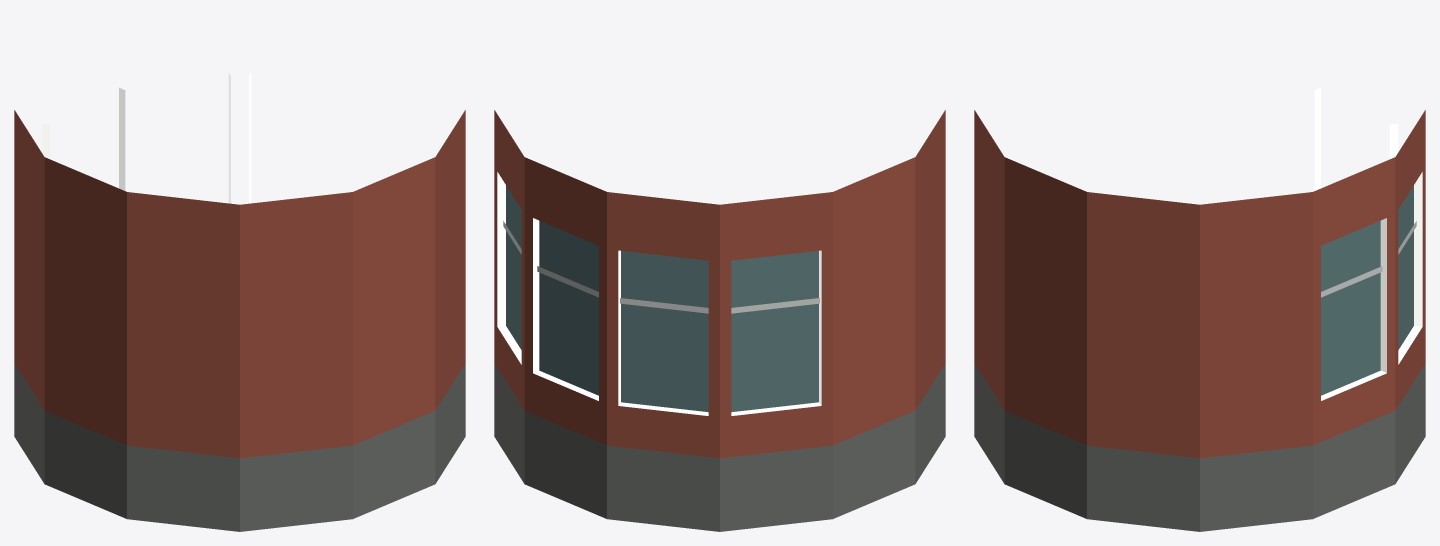
The picture shows the model from 3 angles, left to right: view 1: azimuth 30°, elevation 25°; view 2: azimuth 150°, elevation 25°; view 3: azimuth 270°, elevation 25°; orthographic projection.
Parts seen in each view (by area): view 1: shed3__brick, shed3__base-stone, shed3__trim-concrete; view 2: shed3__brick, shed3__glass, shed3__base-stone, shed3__trim-concrete, shed3__frame; view 3: shed3__brick, shed3__base-stone, shed3__glass, shed3__trim-concrete, shed3__frame.
Boxes of the visible parts, box(x1,y1,x2,y2) form: shed3__brick: box(14, 110, 465, 458); shed3__base-stone: box(14, 363, 465, 531); shed3__trim-concrete: box(41, 73, 251, 203); shed3__brick: box(494, 110, 945, 458); shed3__glass: box(506, 185, 818, 412); shed3__base-stone: box(494, 363, 945, 531); shed3__trim-concrete: box(497, 172, 821, 415); shed3__frame: box(503, 221, 819, 313); shed3__brick: box(974, 110, 1425, 458); shed3__base-stone: box(974, 363, 1425, 531); shed3__glass: box(1321, 185, 1413, 395); shed3__trim-concrete: box(1314, 87, 1422, 400); shed3__frame: box(1321, 221, 1416, 297).
Bounding box in the file's own units: 5 × 4 × 5.
